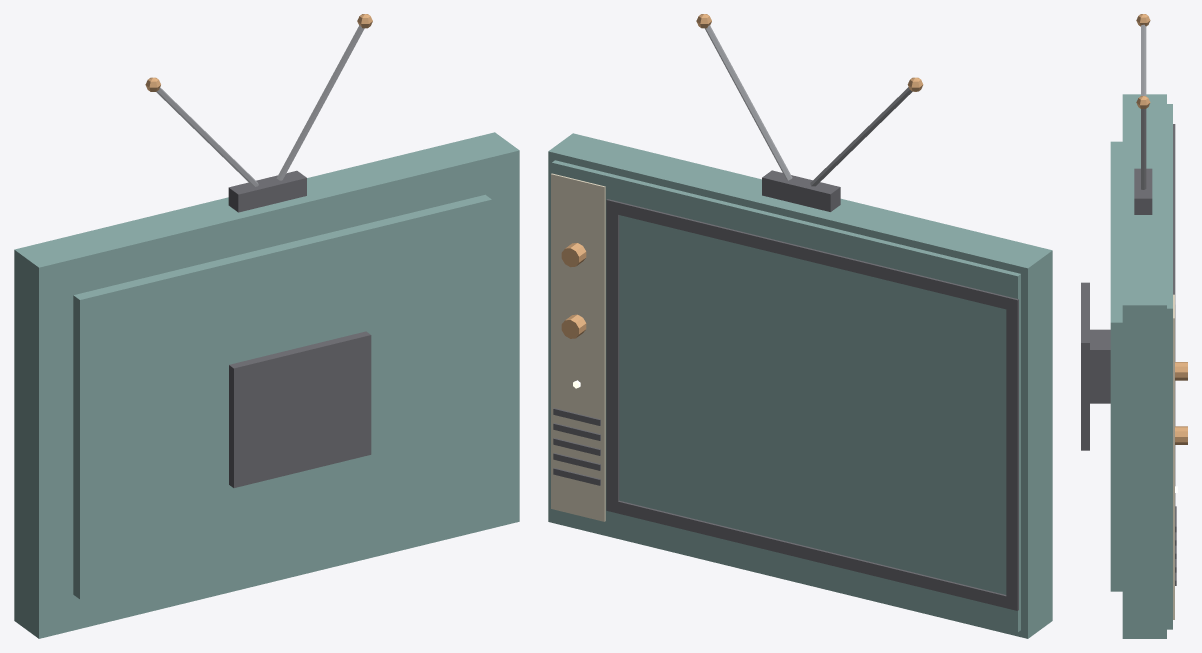
Rendered from tv_set.glb.
3 views of the same model, side by side, from view 1: azimuth 30°, elevation 25°; view 2: azimuth 150°, elevation 25°; view 3: azimuth 270°, elevation 25° (orthographic). The views are drawn at different scales.
Parts seen in each view (by area): view 1: TvSet; view 2: TvSet; view 3: TvSet.
Boxes of the visible parts, left/top/right/bottom form: TvSet: left=14, top=14, right=519, bottom=638; TvSet: left=548, top=14, right=1052, bottom=638; TvSet: left=1081, top=14, right=1187, bottom=638.
Size of the model in its own units: 0.84 by 0.892 by 0.18.
